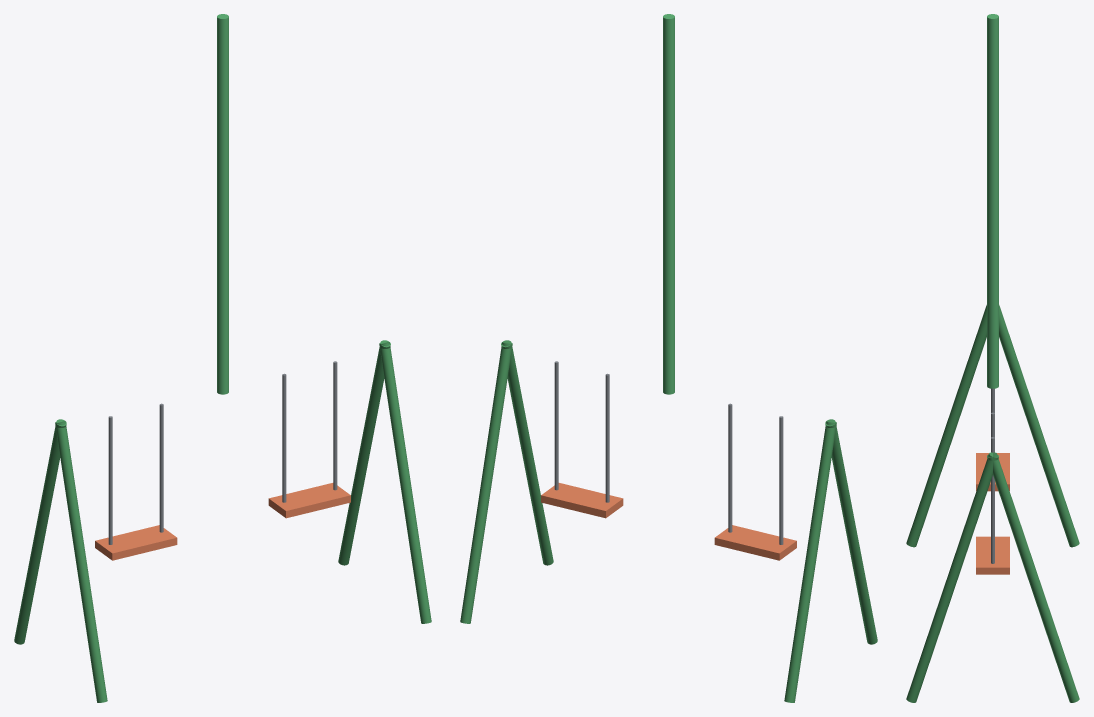
Rendered from swing.glb.
3 renders of one model, left to right at view 1: azimuth 30°, elevation 25°; view 2: azimuth 150°, elevation 25°; view 3: azimuth 270°, elevation 25°, orthographic.
Parts seen in each view (by area): view 1: topbar, legB-1.4, legB1.4, legA-1.4, legA1.4, seat1, seat0, chainL1, chainR1, chainL0, chainR0; view 2: topbar, legA-1.4, legA1.4, legB-1.4, legB1.4, seat1, seat0, chainL1, chainR1, chainL0, chainR0; view 3: topbar, legA1.4, legB1.4, legA-1.4, legB-1.4, seat1, seat0, chainR1.
Boxes of the visible parts, x1=… form: topbar: x1=217, y1=14, x2=228, y2=394; legB-1.4: x1=55, y1=421, x2=107, y2=702; legB1.4: x1=379, y1=342, x2=431, y2=623; legA-1.4: x1=14, y1=419, x2=66, y2=644; legA1.4: x1=338, y1=340, x2=390, y2=565; seat1: x1=268, y1=483, x2=350, y2=518; seat0: x1=95, y1=525, x2=177, y2=560; chainL1: x1=282, y1=373, x2=286, y2=502; chainR1: x1=333, y1=361, x2=337, y2=490; chainL0: x1=108, y1=416, x2=112, y2=544; chainR0: x1=159, y1=403, x2=163, y2=532; topbar: x1=663, y1=14, x2=674, y2=394; legA-1.4: x1=784, y1=421, x2=836, y2=702; legA1.4: x1=460, y1=342, x2=512, y2=623; legB-1.4: x1=825, y1=419, x2=877, y2=644; legB1.4: x1=501, y1=340, x2=553, y2=565; seat1: x1=541, y1=483, x2=623, y2=518; seat0: x1=714, y1=525, x2=796, y2=560; chainL1: x1=605, y1=373, x2=609, y2=502; chainR1: x1=554, y1=361, x2=558, y2=490; chainL0: x1=779, y1=416, x2=783, y2=544; chainR0: x1=728, y1=403, x2=732, y2=532; topbar: x1=987, y1=14, x2=998, y2=388; legA1.4: x1=987, y1=452, x2=1079, y2=702; legB1.4: x1=906, y1=452, x2=998, y2=702; legA-1.4: x1=999, y1=305, x2=1079, y2=547; legB-1.4: x1=906, y1=305, x2=986, y2=547; seat1: x1=976, y1=536, x2=1009, y2=574; seat0: x1=976, y1=453, x2=1009, y2=491; chainR1: x1=991, y1=437, x2=994, y2=563.
Bounding box in the file's own units: 2.88 × 5.09 × 1.32.
